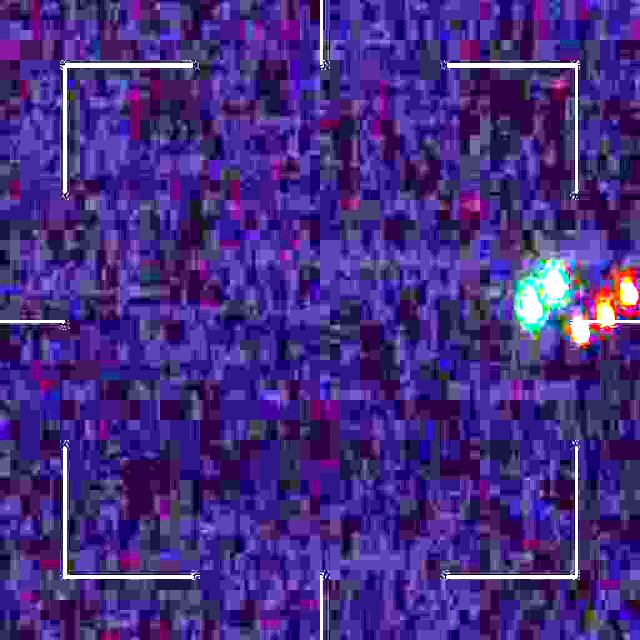bird: (520, 262, 638, 344)
